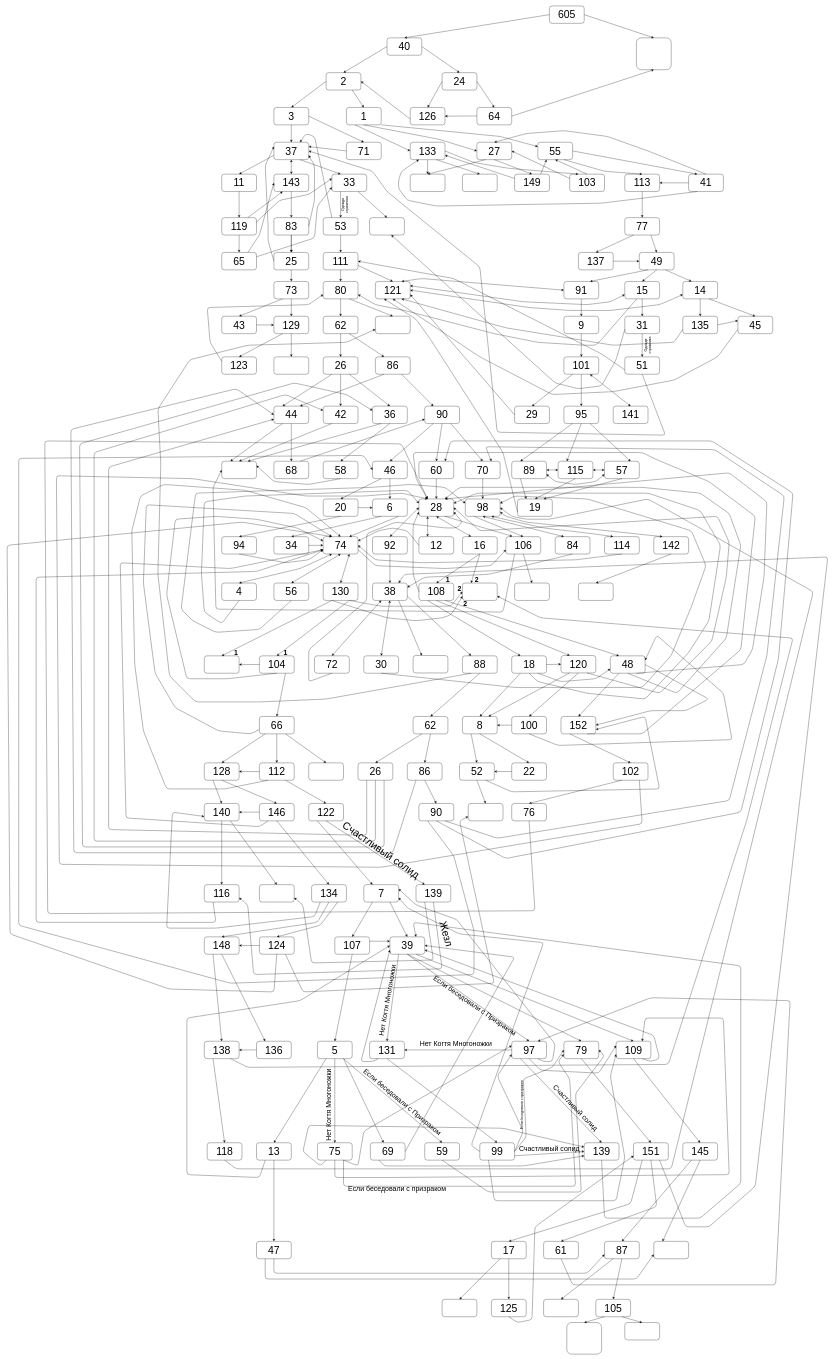
The diagram is 835 pixels wide and 1359 high, and some of its shapes have lost their labels. Each missing label, with the centre of its shape:
"10 EXIT" goes at point (653, 54).
"110 X" goes at point (221, 664).
"132 X" goes at point (595, 591).
"144 X" goes at point (479, 591).
"147 X" goes at point (560, 1308).
"150 X" goes at point (276, 893).
"153 END" goes at point (584, 1338).
"21 X" goes at point (291, 365).
"23 X" goes at point (671, 1250).
"32 X" goes at point (531, 591).
"35 X" goes at point (642, 1331).
"50 X" goes at point (430, 664).
"54 X" goes at point (326, 771).
"63 X" goes at point (427, 183).
"67 X" goes at point (386, 226).
"78 X" goes at point (239, 470).
"81 X" goes at point (459, 1308).
"85 X" goes at point (479, 183).
"93 X" goes at point (392, 325).
"96 X" goes at point (485, 812).
